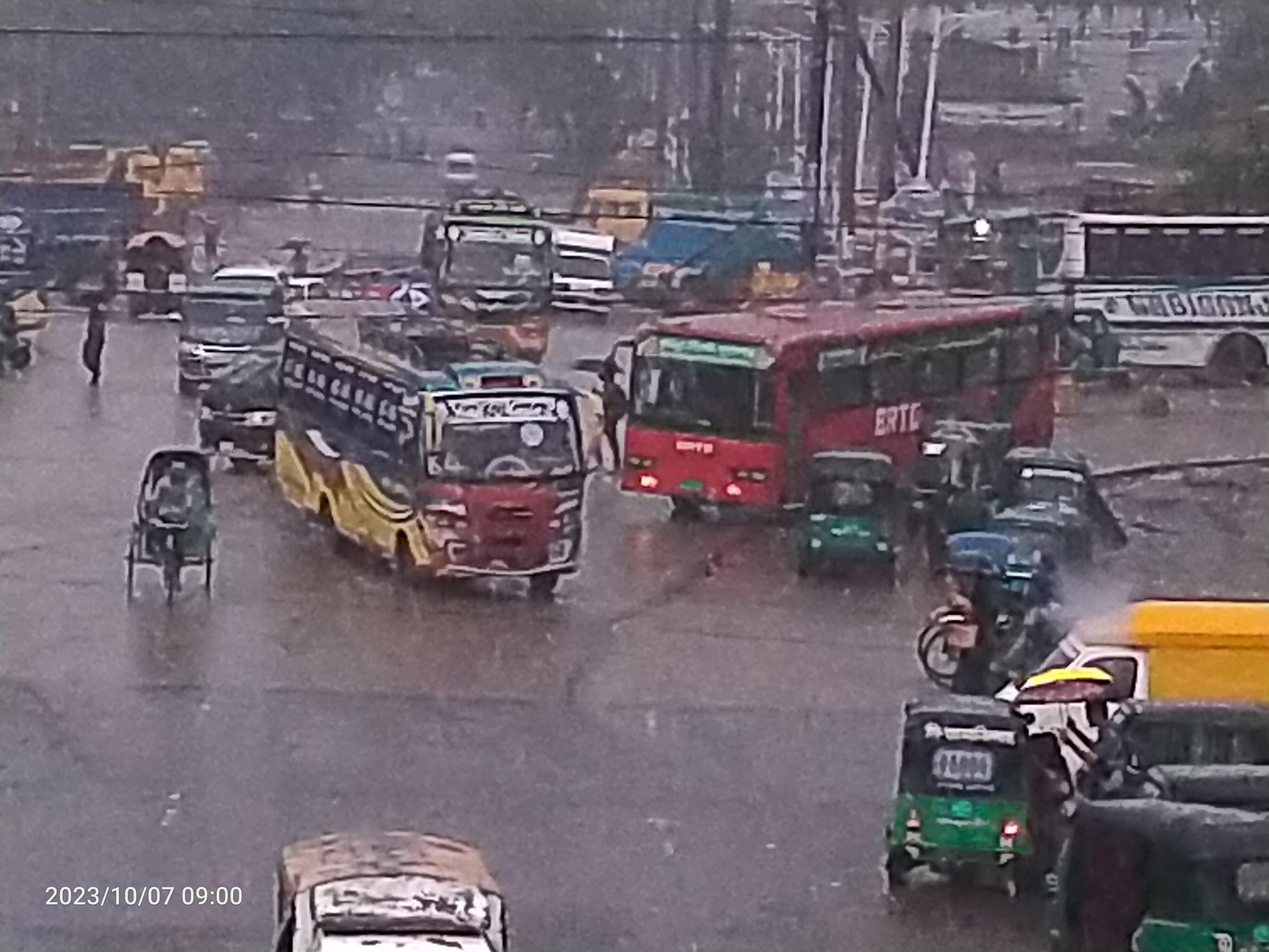Bus: (257, 267, 621, 631), (610, 284, 1086, 536), (1006, 160, 1269, 403), (375, 162, 591, 391)
Car: (980, 578, 1269, 736), (85, 412, 243, 644), (233, 823, 521, 949), (154, 257, 286, 385), (518, 202, 636, 329)
